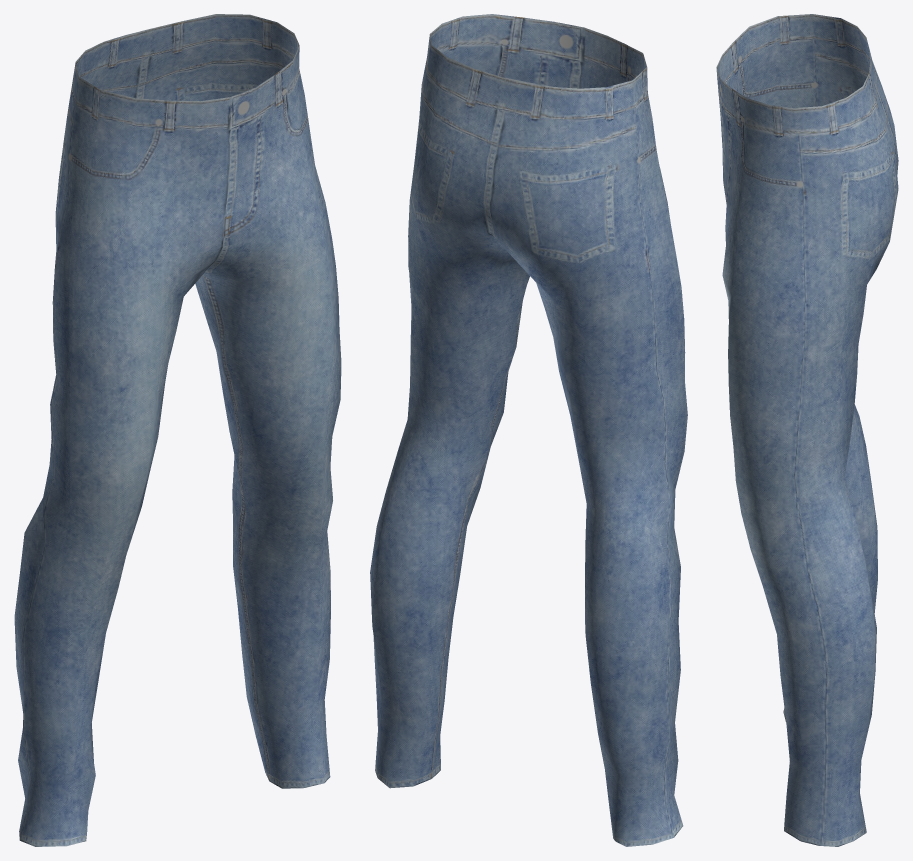
The model's file is blueJean.gltf.
The picture shows the model from 3 angles, left to right: view 1: azimuth 30°, elevation 25°; view 2: azimuth 150°, elevation 25°; view 3: azimuth 270°, elevation 25°; orthographic projection. The views are drawn at different scales.
Parts seen in each view (by area): view 1: default_default_0; view 2: default_default_0; view 3: default_default_0.
Boxes of the visible parts, x1=… form: default_default_0: x1=14, y1=14, x2=341, y2=846; default_default_0: x1=370, y1=14, x2=687, y2=846; default_default_0: x1=716, y1=14, x2=898, y2=846.
Bounding box in the file's own units: 437 × 1056 × 240.
Materials: 1 (1 with a texture image).
